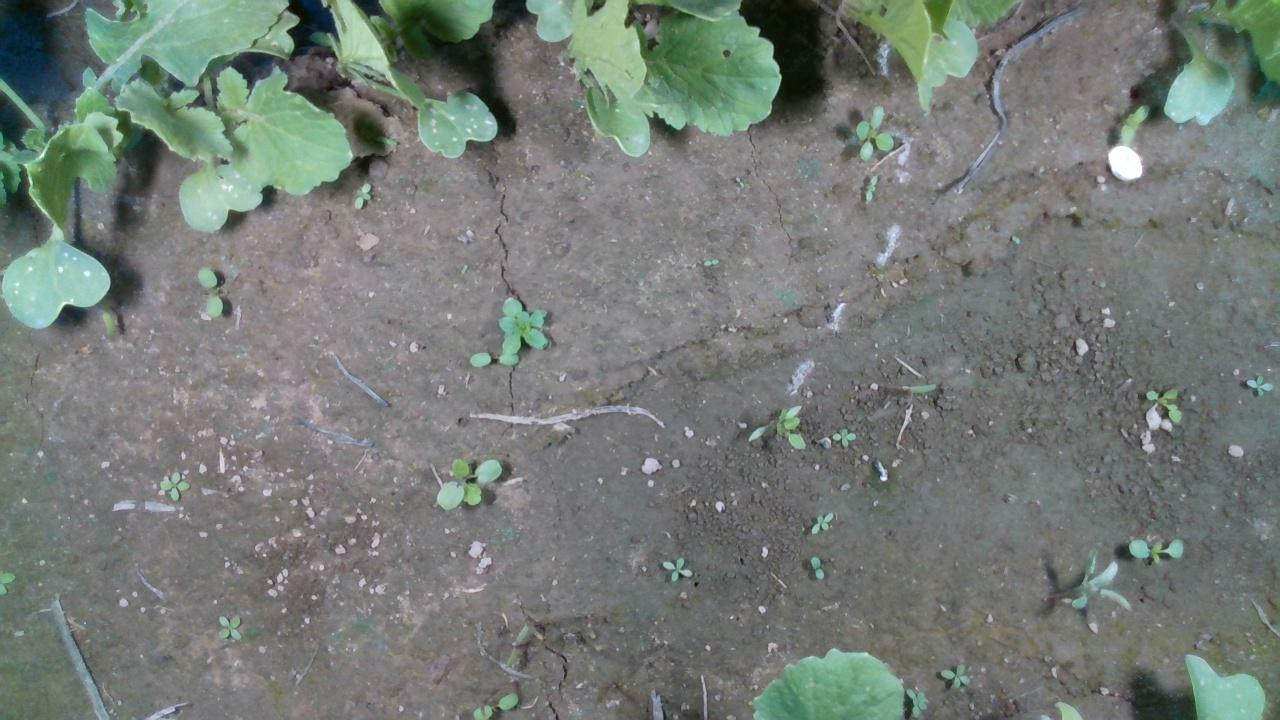weed: (434, 454, 503, 512), (852, 104, 895, 160), (1127, 537, 1184, 565), (194, 264, 223, 318), (1118, 103, 1150, 147), (155, 470, 190, 502), (936, 662, 971, 688), (659, 553, 692, 580), (216, 614, 243, 641), (1244, 372, 1272, 396), (352, 180, 372, 209), (830, 424, 854, 447), (808, 510, 832, 533), (863, 171, 878, 205), (810, 554, 823, 579)
